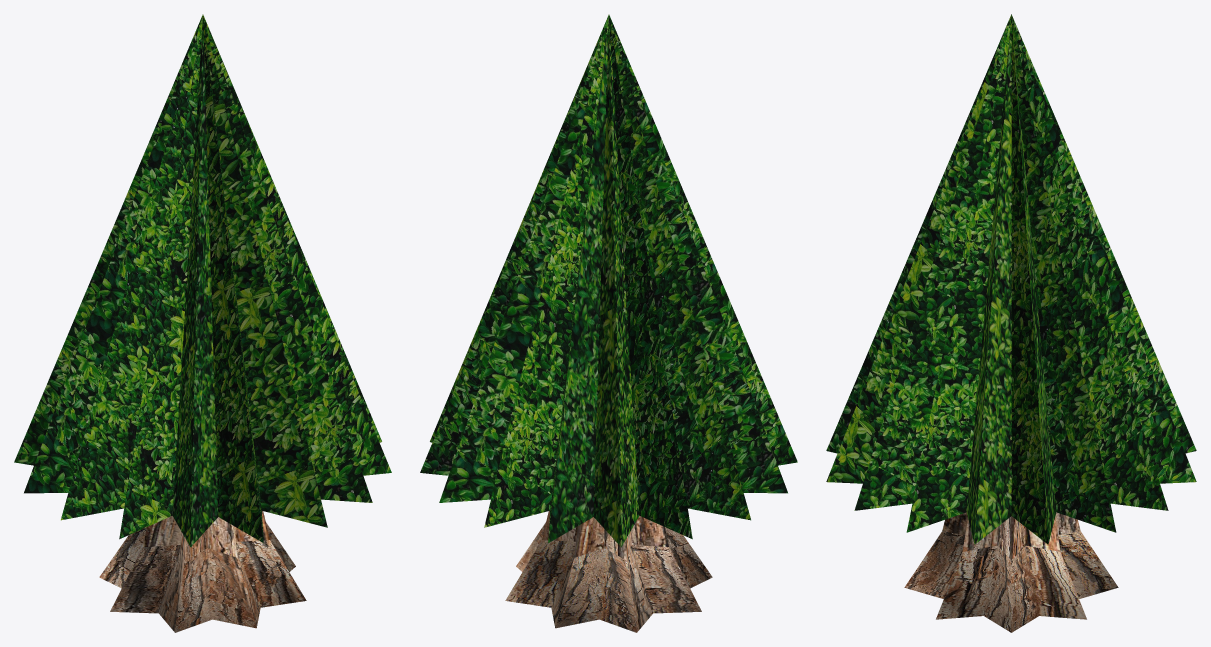
File: tree.fbx
3 views of the same model, side by side, from view 1: azimuth 30°, elevation 25°; view 2: azimuth 150°, elevation 25°; view 3: azimuth 270°, elevation 25° (orthographic).
Parts seen in each view (by area): view 1: Cylinder.001, Cylinder; view 2: Cylinder.001, Cylinder; view 3: Cylinder.001, Cylinder.
Boxes of the visible parts, x1,y1,x2,y2 form: Cylinder.001: (14,14,391,547); Cylinder: (99,511,306,632); Cylinder.001: (420,14,797,547); Cylinder: (505,511,712,632); Cylinder.001: (826,14,1196,544); Cylinder: (904,512,1118,632).
Bounding box in the file's own units: 157 × 268 × 157.
Materials: 2 (2 with a texture image).
